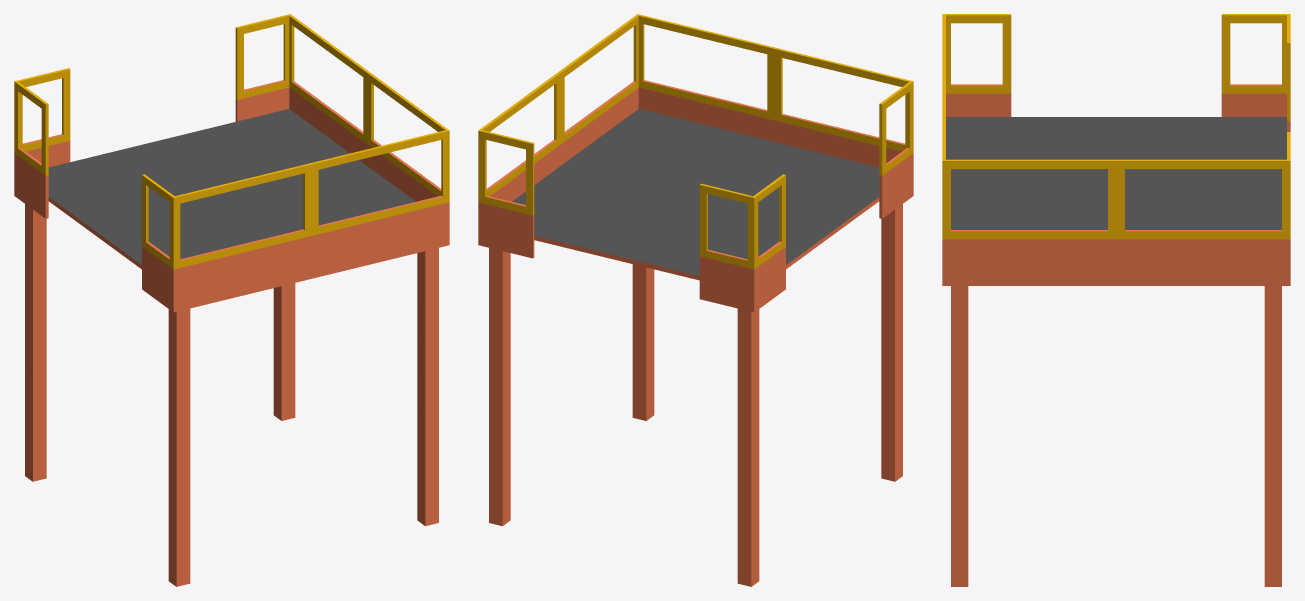
File: Prop_Industrial_Platform_Walkway_Wide_Bend_01.FBX
The picture shows the model from 3 angles, left to right: view 1: azimuth 30°, elevation 25°; view 2: azimuth 150°, elevation 25°; view 3: azimuth 270°, elevation 25°; orthographic projection. The views are drawn at different scales.
Visible parts, largest first — view 1: Prop_Industrial_Platform_Walkway_Wide_Bend_01; view 2: Prop_Industrial_Platform_Walkway_Wide_Bend_01; view 3: Prop_Industrial_Platform_Walkway_Wide_Bend_01.
Boxes of the visible parts, <box> form: Prop_Industrial_Platform_Walkway_Wide_Bend_01: <box>14,14,449,586</box>; Prop_Industrial_Platform_Walkway_Wide_Bend_01: <box>478,14,913,586</box>; Prop_Industrial_Platform_Walkway_Wide_Bend_01: <box>942,14,1290,586</box>.
Size of the model in its own units: 4040 by 5500 by 4040.
